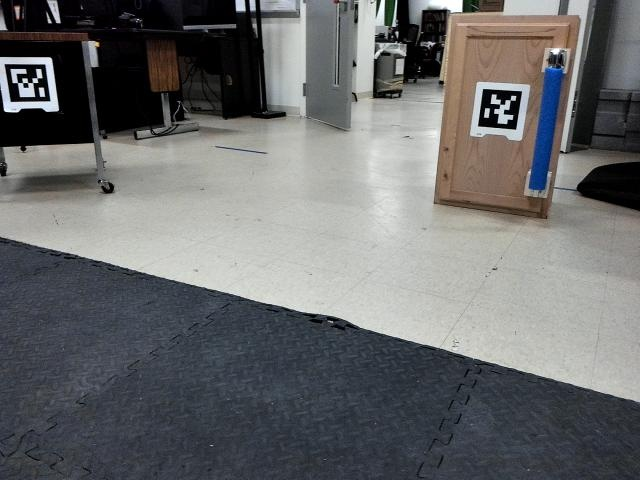noodle_handle: (522, 64, 570, 193)
